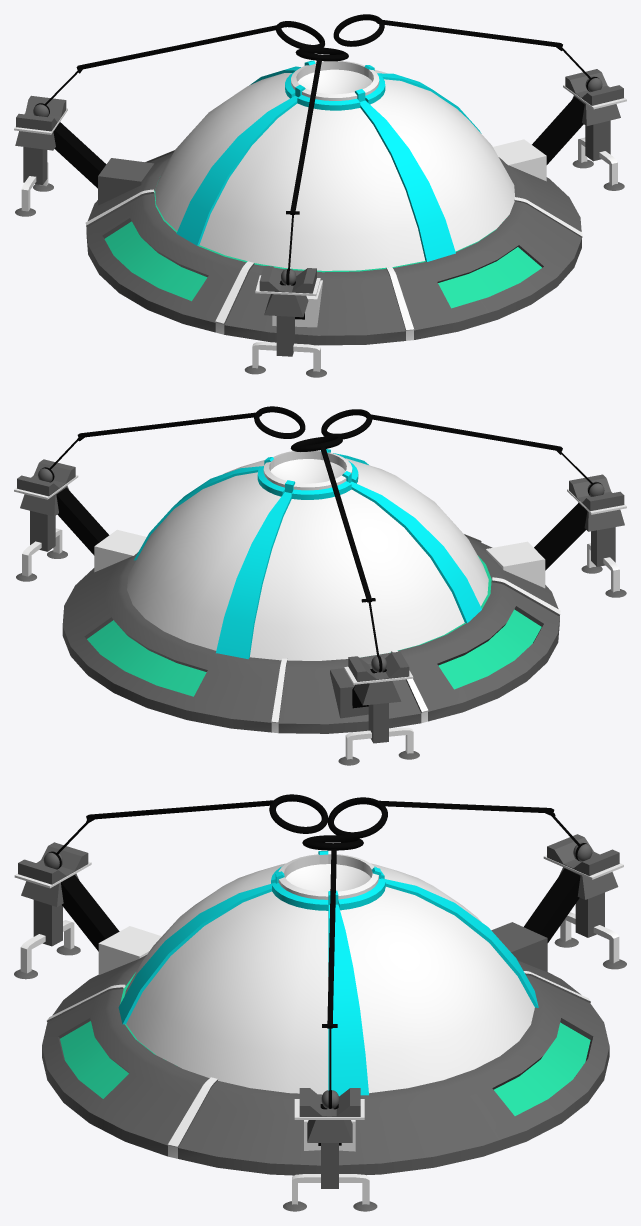
Rendered from BallSpawnerPortalVR.fbx.
3 renders of one model, top to bottom at view 1: azimuth 30°, elevation 25°; view 2: azimuth 150°, elevation 25°; view 3: azimuth 270°, elevation 25°, orthographic. The views are drawn at different scales.
Visible parts, largest first — view 1: Cube.012, Sphere, Cube.025, Torus.002, Torus.001; view 2: Cube.012, Sphere, Torus.001, Torus.002, Cube.025; view 3: Cube.012, Sphere, Torus.001, Cube.025, Torus.002.
Boxes of the visible parts, x1,y1,x2,y2 form: Cube.012: (14,69,626,377); Sphere: (155,60,514,270); Cube.025: (76,21,324,70); Torus.002: (333,14,562,47); Torus.001: (290,47,348,214); Cube.012: (14,459,626,765); Sphere: (127,449,488,660); Torus.001: (321,409,562,451); Torus.002: (77,406,305,438); Cube.025: (290,436,371,602); Cube.012: (14,834,626,1211); Sphere: (118,850,538,1096); Torus.001: (86,794,328,833); Cube.025: (328,797,554,838); Torus.002: (302,835,363,1028).
Size of the model in its own units: 421 by 171 by 396.
